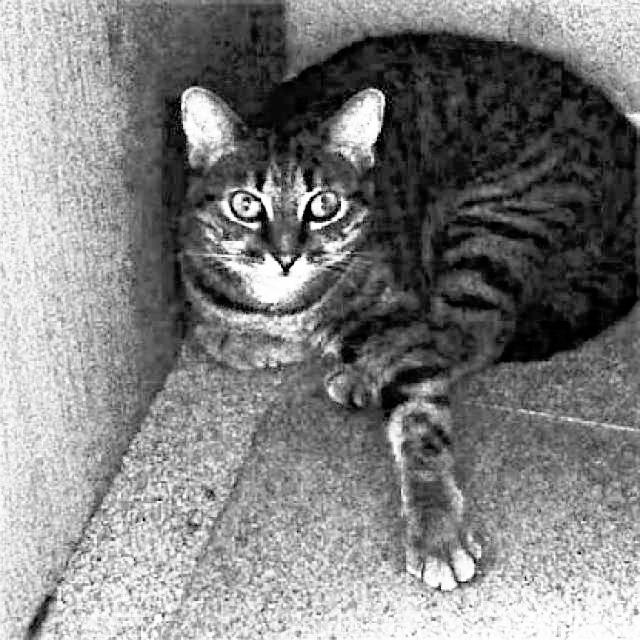Cat: (175, 30, 640, 594)
